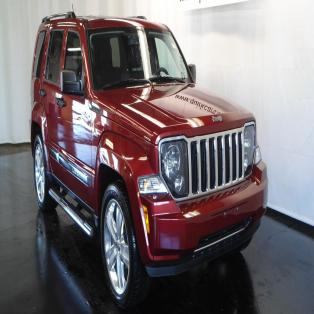Auto: (30, 12, 269, 310)
